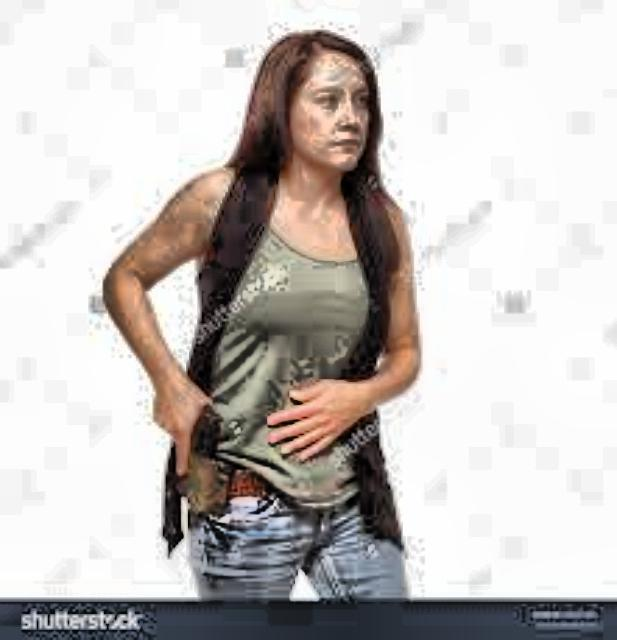pistol: (141, 388, 224, 514)
